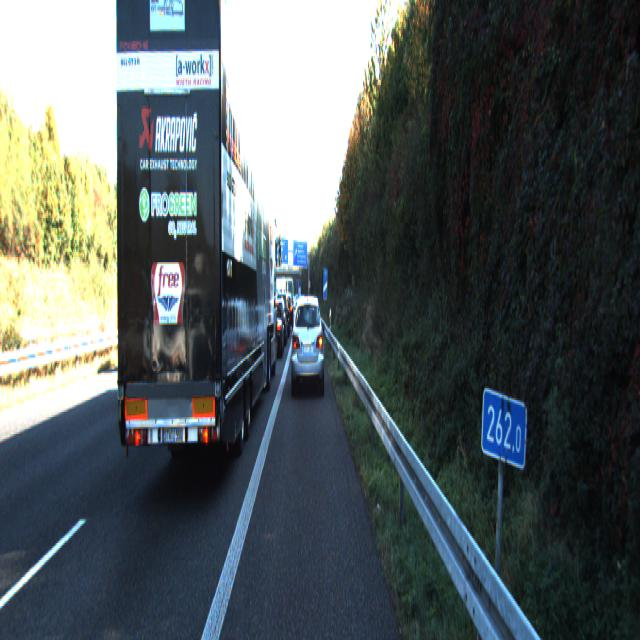Car: (116, 0, 277, 504), (290, 292, 324, 394), (262, 304, 285, 356)
